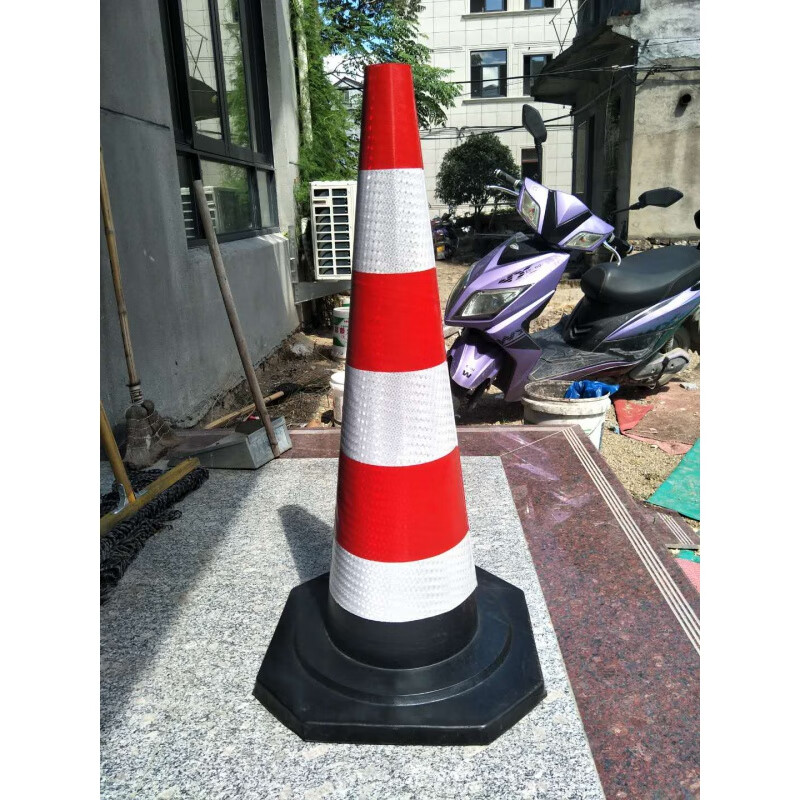traffic_cone: (208, 48, 564, 751)
